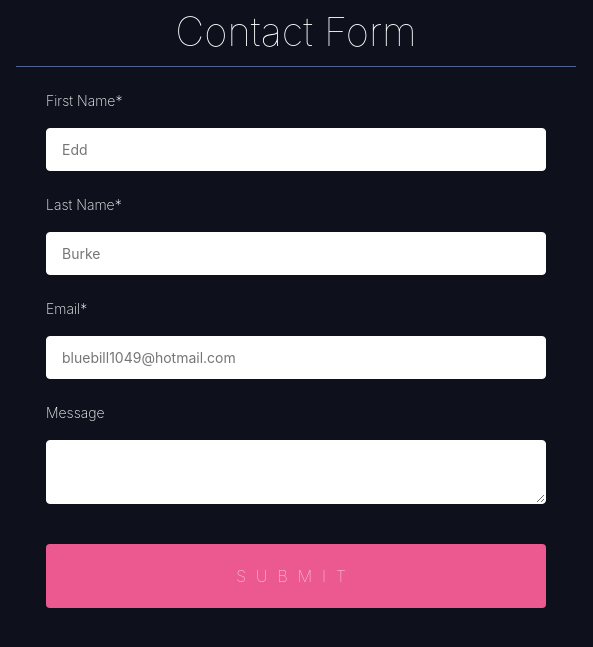
Test case: 4 renders THREE error messages if user enters no values into any fields.
Click the button. click: (296, 576)
box: [46, 544, 546, 608]
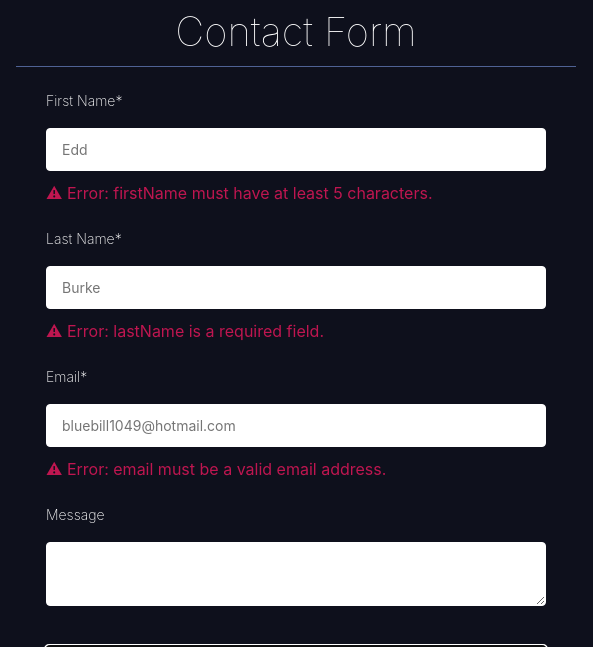
Result: the number of elements with test id "error" is 3 at [67, 183, 432, 203]; [67, 321, 324, 341]; [67, 459, 386, 479]
Result: the text "Error: firstName must have at least 5 characters." is shown at [67, 183, 432, 203]
